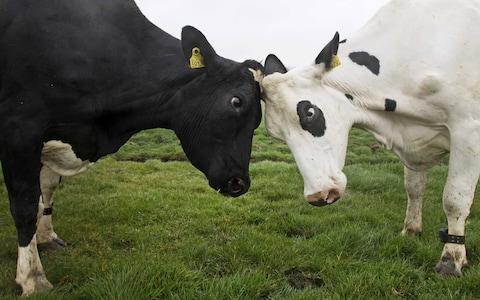cow: (0, 0, 479, 294)
